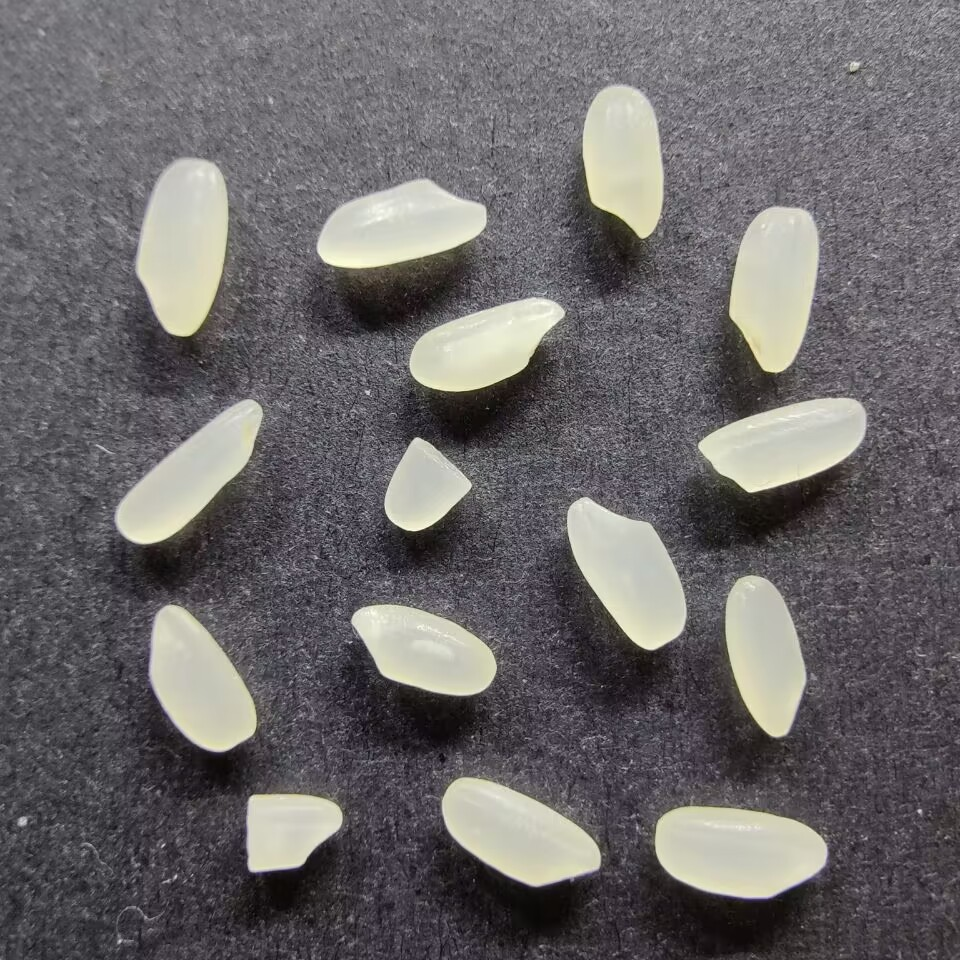broken: (384, 435, 476, 532), (242, 791, 345, 872)
rice: (110, 395, 267, 545), (562, 494, 688, 651), (437, 774, 603, 889), (696, 394, 868, 494), (652, 804, 829, 900), (146, 603, 258, 754), (135, 158, 228, 338), (726, 205, 821, 375), (314, 177, 488, 269), (407, 295, 566, 393), (723, 572, 809, 739), (349, 603, 496, 697), (580, 83, 665, 243)
